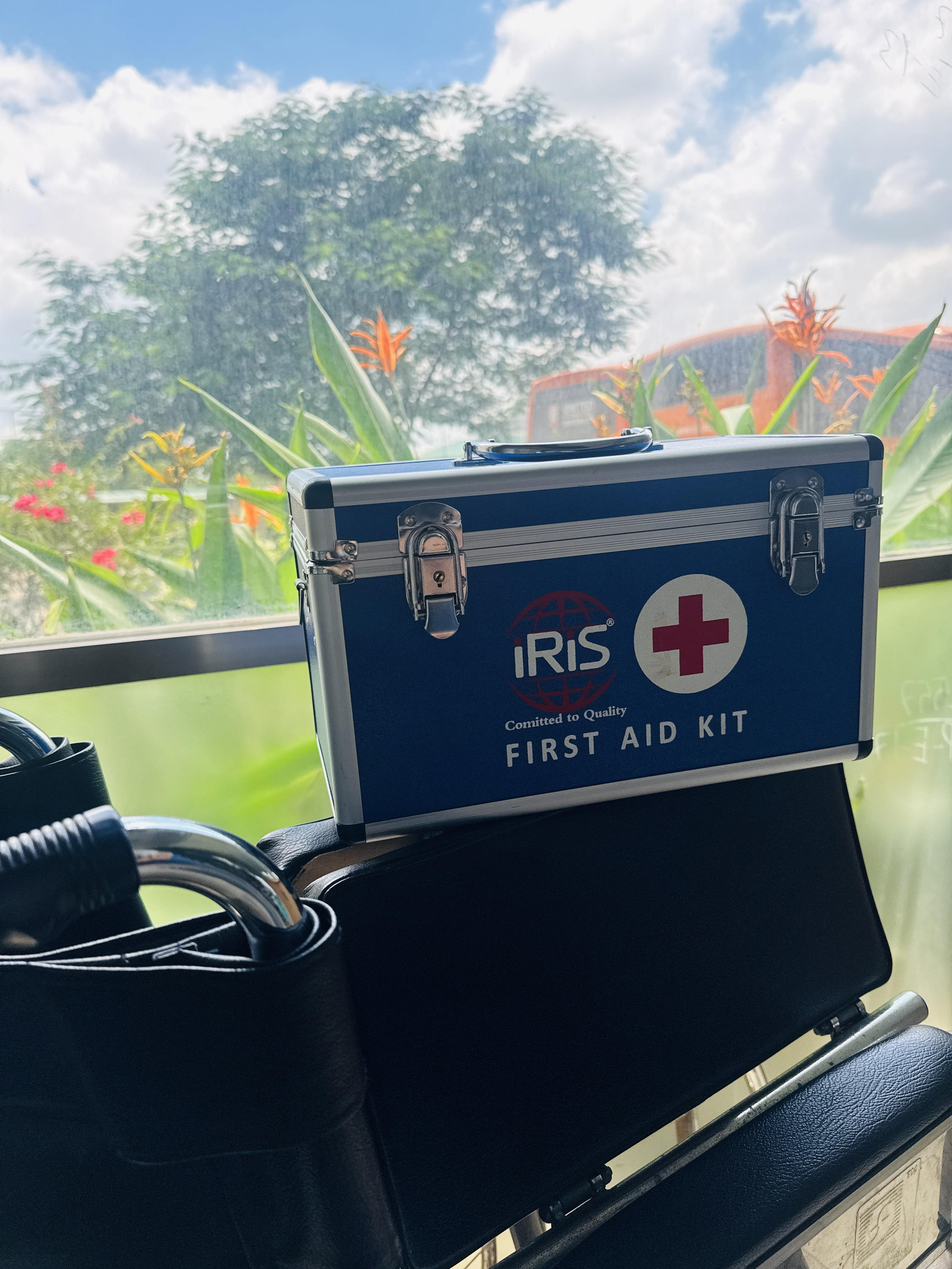FirstAidBox: (257, 418, 902, 868)
